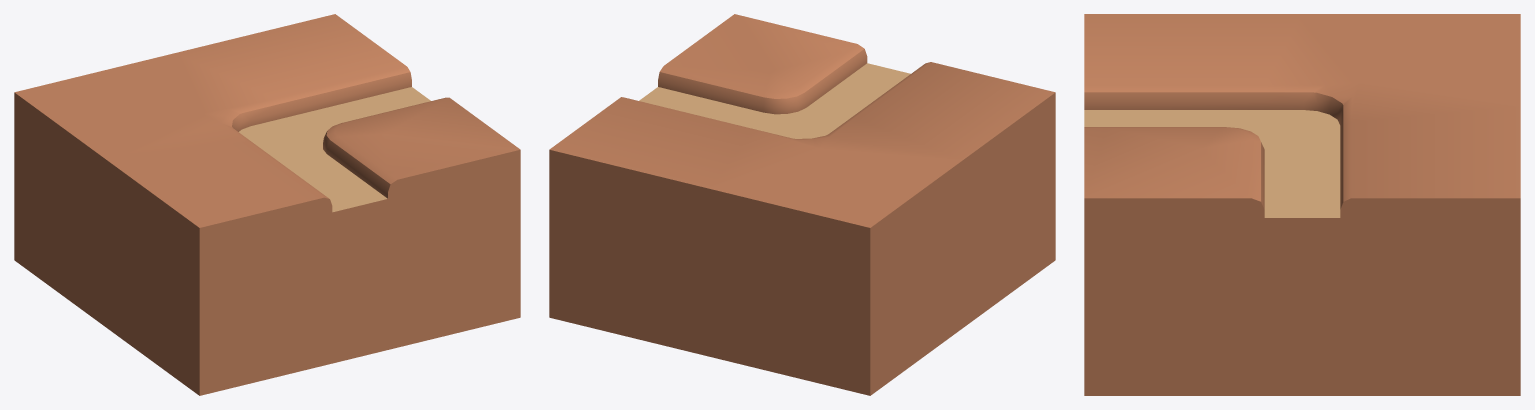
Rendered from kaykit-square-rock-roadc.glb.
3 views of the same model, side by side, from view 1: azimuth 30°, elevation 25°; view 2: azimuth 150°, elevation 25°; view 3: azimuth 270°, elevation 25° (orthographic). The views are drawn at different scales.
Parts seen in each view (by area): view 1: square_rock_roadC; view 2: square_rock_roadC; view 3: square_rock_roadC.
Part boxes in pixels (x1,y1,x2,y2): square_rock_roadC: (14,14,520,395); square_rock_roadC: (549,14,1055,395); square_rock_roadC: (1084,14,1520,395).
Bounding box in the file's own units: 2 × 0.9998 × 2.
